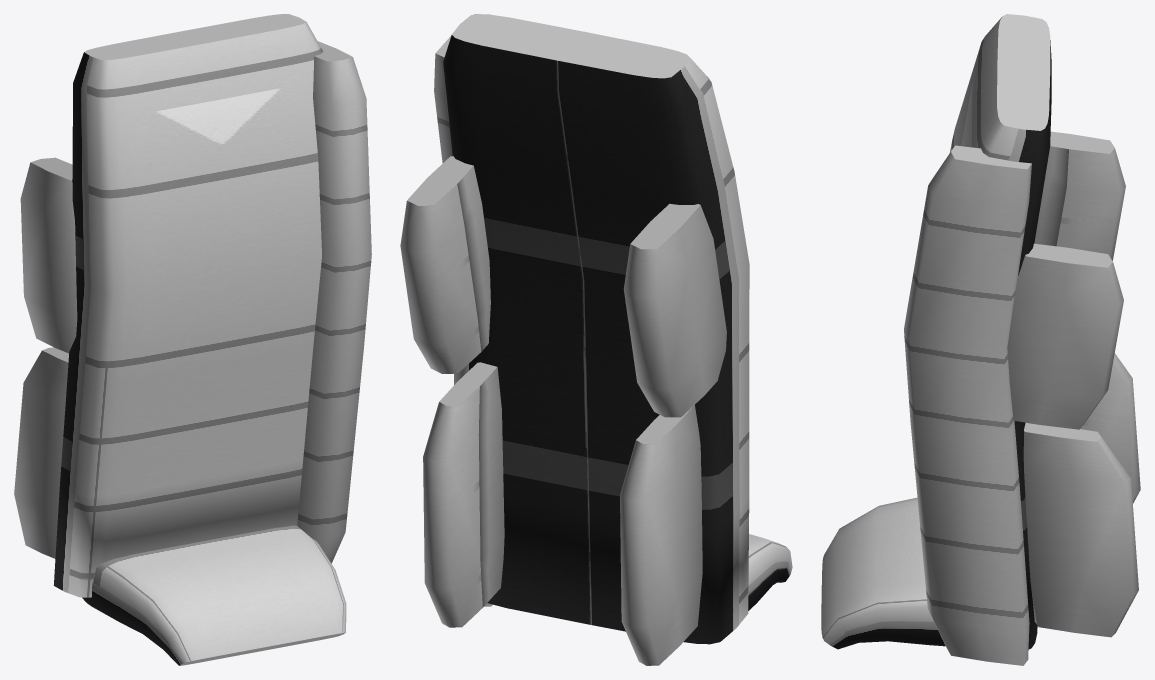
File: jambiere.glb
3 renders of one model, left to right at view 1: azimuth 30°, elevation 25°; view 2: azimuth 150°, elevation 25°; view 3: azimuth 270°, elevation 25°, orthographic. The views are drawn at different scales.
Parts seen in each view (by area): view 1: Jambiere; view 2: Jambiere; view 3: Jambiere.
Boxes of the visible parts, box(x1,y1,x2,y2) form: Jambiere: box(14, 14, 371, 665); Jambiere: box(400, 14, 792, 665); Jambiere: box(821, 14, 1140, 665).
Size of the model in its own units: 0.307 by 0.6009 by 0.3103.
Materials: 1 (1 with a texture image).
